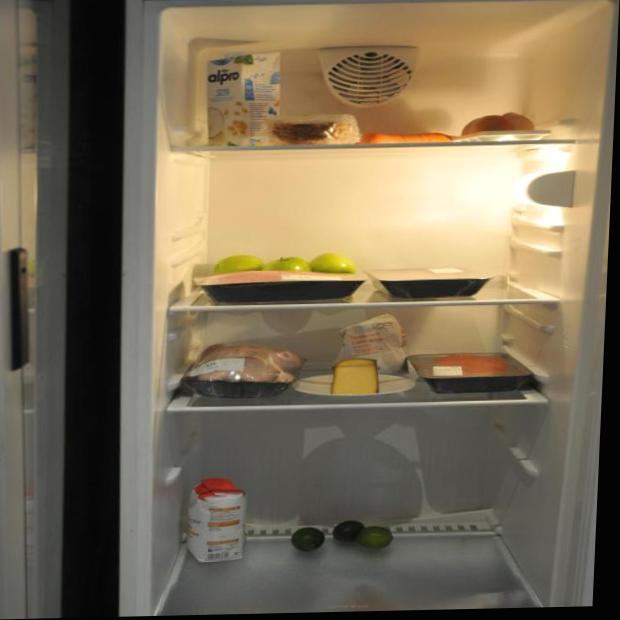apple: (213, 240, 366, 279)
bread: (289, 106, 367, 157)
carrots: (369, 122, 458, 153)
cheese: (327, 353, 396, 404)
chicken: (190, 335, 310, 406)
eggs: (458, 103, 544, 161)
lime: (278, 518, 397, 562)
meat: (395, 347, 543, 404), (197, 269, 355, 312), (367, 270, 488, 305)
milk: (193, 42, 286, 156)
